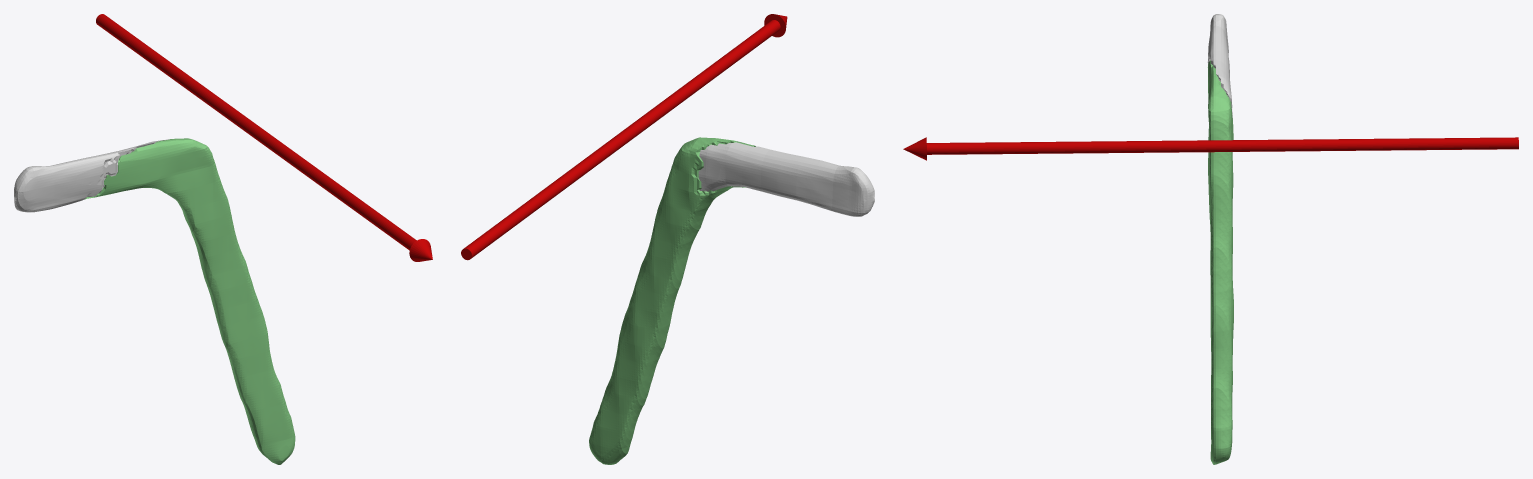
3 views of the same model, side by side, from view 1: azimuth 30°, elevation 25°; view 2: azimuth 150°, elevation 25°; view 3: azimuth 270°, elevation 25° (orthographic). The views are drawn at different scales.
Parts seen in each view (by area): view 1: world; view 2: world; view 3: world.
Part boxes in pixels (x1=…): world: x1=14, y1=14, x2=432, y2=464; world: x1=461, y1=14, x2=874, y2=464; world: x1=903, y1=14, x2=1518, y2=464.
Bounding box in the file's own units: 0.5178 × 0.6274 × 1.04.
